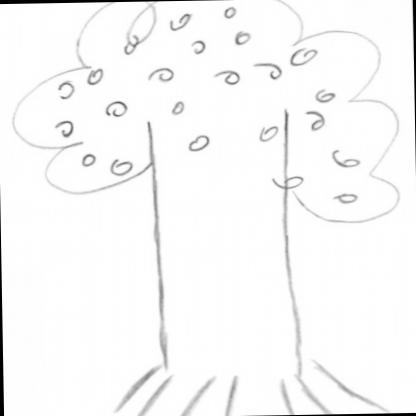apple: (331, 146, 362, 169), (271, 171, 305, 191), (290, 47, 320, 68), (211, 68, 242, 86), (304, 107, 326, 132), (258, 59, 284, 80), (166, 13, 194, 32), (52, 118, 78, 138), (148, 66, 176, 83), (110, 157, 134, 176), (187, 134, 212, 152), (106, 99, 128, 118), (335, 188, 358, 206), (230, 29, 252, 47), (314, 87, 336, 104), (56, 79, 74, 99), (258, 125, 279, 142), (186, 40, 208, 55), (86, 68, 106, 84), (124, 35, 140, 55), (80, 151, 98, 168), (170, 100, 186, 114), (222, 7, 238, 20)
crown_cloud: (8, 0, 402, 229)
root_only: (110, 351, 396, 416)
trunk_straight: (142, 204, 306, 358)
